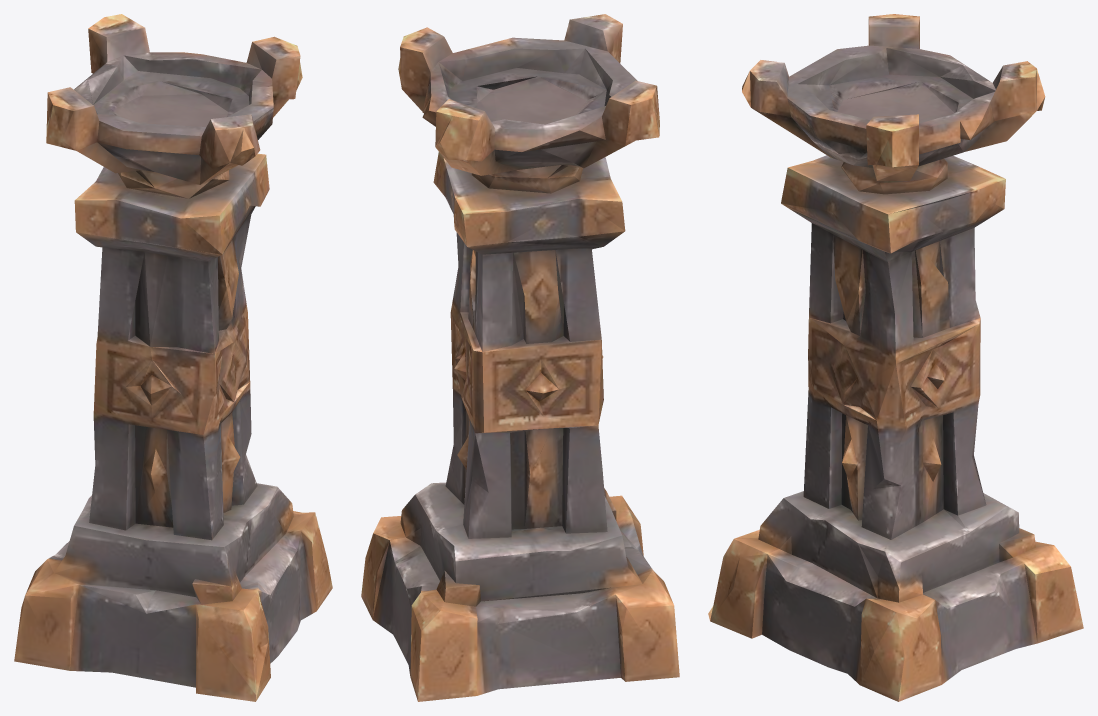
The model's file is hub_collectible_pedestal.glb.
The picture shows the model from 3 angles, left to right: view 1: azimuth 30°, elevation 25°; view 2: azimuth 150°, elevation 25°; view 3: azimuth 270°, elevation 25°; orthographic projection. The views are drawn at different scales.
Parts seen in each view (by area): view 1: body; view 2: body; view 3: body.
Boxes of the visible parts, x1,y1,x2,y2 form: body: (14, 14, 332, 701); body: (361, 14, 679, 701); body: (708, 14, 1083, 701).
Size of the model in its own units: 0.5823 by 0.9923 by 0.6043.
Materials: 1 (1 with a texture image).
